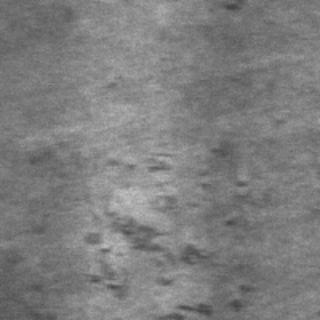rolled pit: (50, 144, 250, 296), (76, 282, 260, 318)
